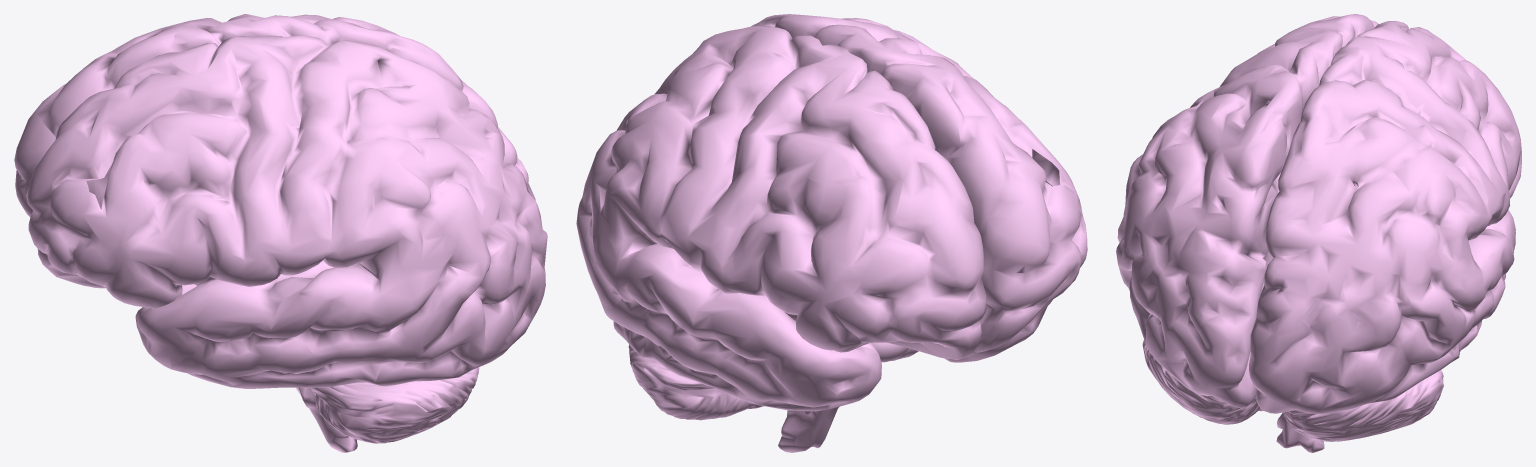
Rendered from brain-simple-mesh.fbx.
3 renders of one model, left to right at view 1: azimuth 30°, elevation 25°; view 2: azimuth 150°, elevation 25°; view 3: azimuth 270°, elevation 25°, orthographic. The views are drawn at different scales.
Visible parts, largest first — view 1: default; view 2: default; view 3: default.
Boxes of the visible parts, bbox=[...] form: default: bbox=[14, 14, 547, 452]; default: bbox=[576, 14, 1087, 452]; default: bbox=[1116, 14, 1521, 452].
Bounding box in the file's own units: 644 × 561 × 548.
